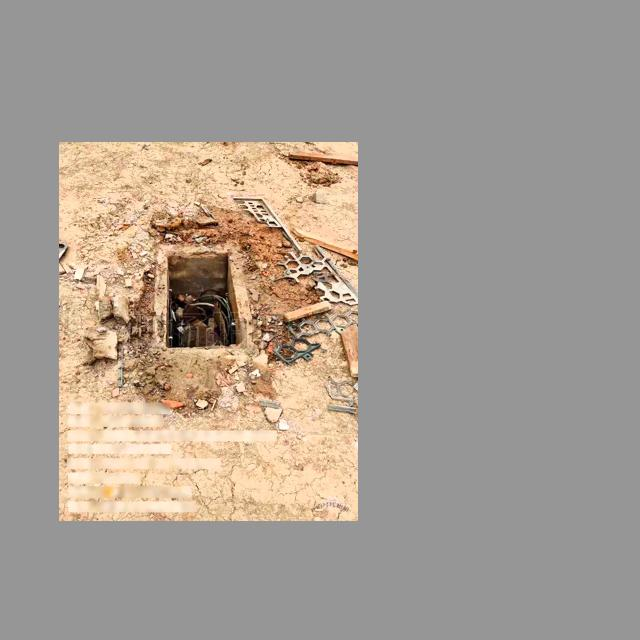lose: (162, 252, 244, 350)
